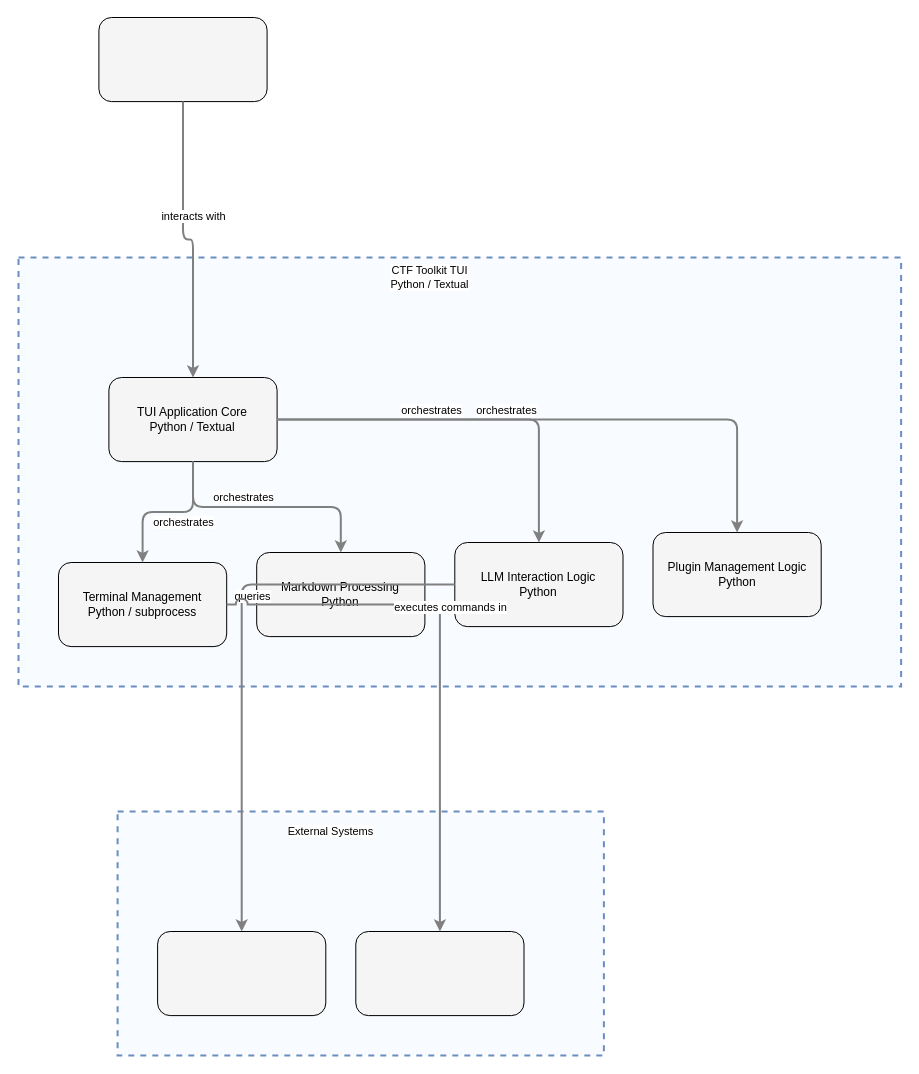
The diagram is 919 pixels wide and 1074 high, and some of its shapes have lost their labels. Here are the shapes that lost their labels. From the top down, the centre of each, then its label:
At (x=182, y=59): "User External Actor".
At (x=241, y=973): "AI APIs e.g. OpenAI, Vertex AI, etc.".
At (x=439, y=973): "Operating System Shell Local OS / subprocess".
